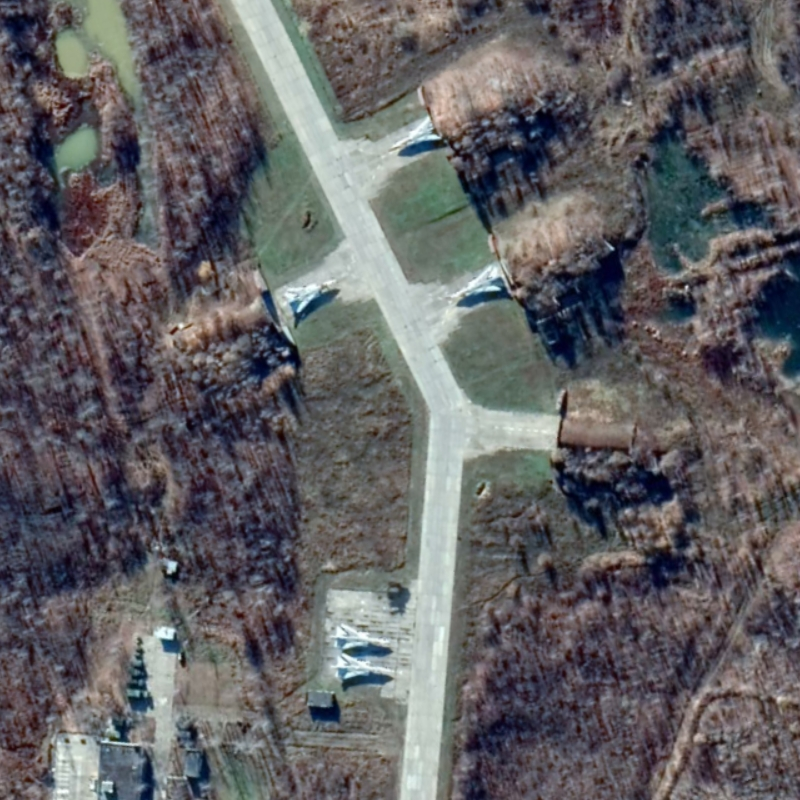A20: (282, 278, 338, 315), (450, 264, 503, 301), (389, 114, 441, 151), (334, 651, 393, 681), (332, 622, 392, 651)
